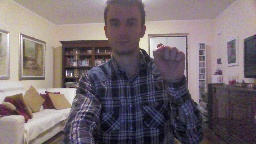Pugno: (150, 42, 186, 82)
